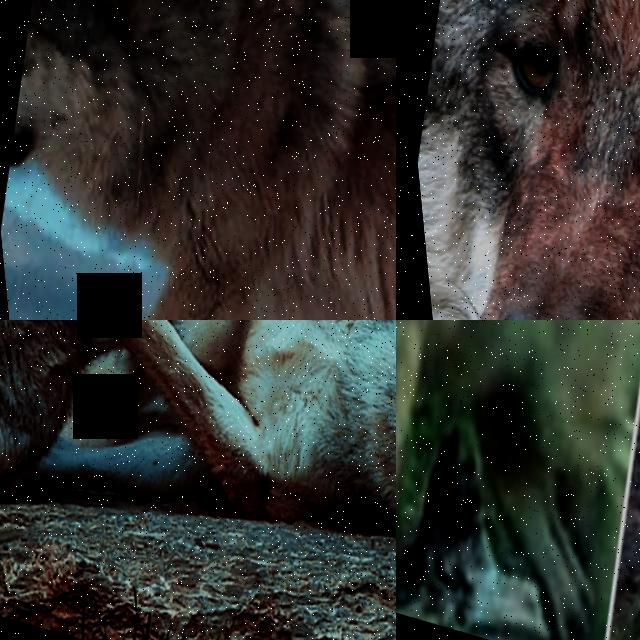wolf: (0, 0, 396, 320), (0, 320, 396, 640), (396, 0, 640, 320), (396, 320, 640, 640), (0, 320, 212, 640), (588, 320, 640, 640)
